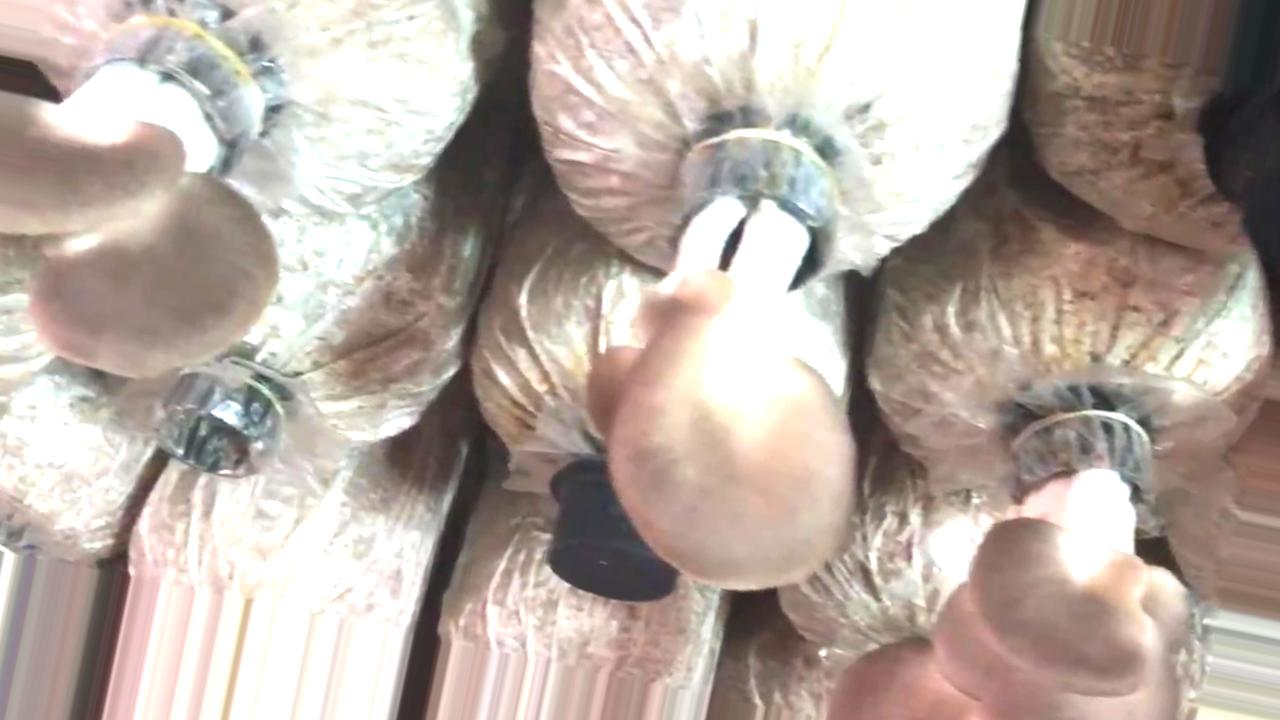nam: (584, 132, 856, 587), (831, 416, 1187, 720), (1, 1, 274, 377)
